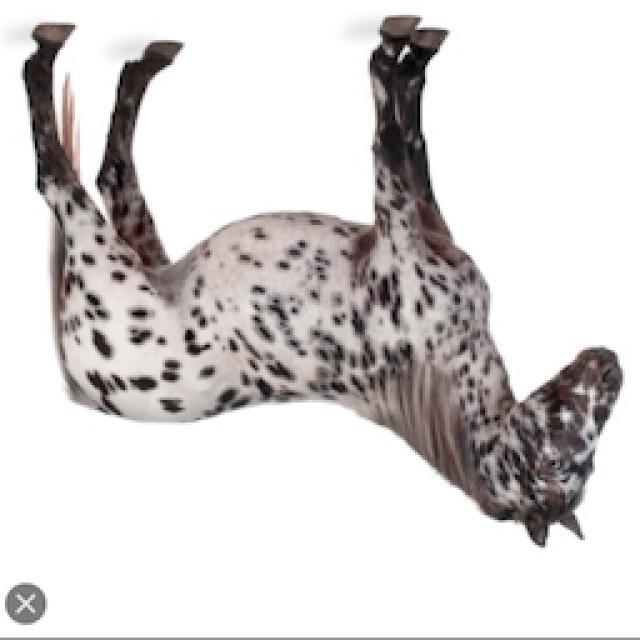Horse: (15, 15, 628, 553)
